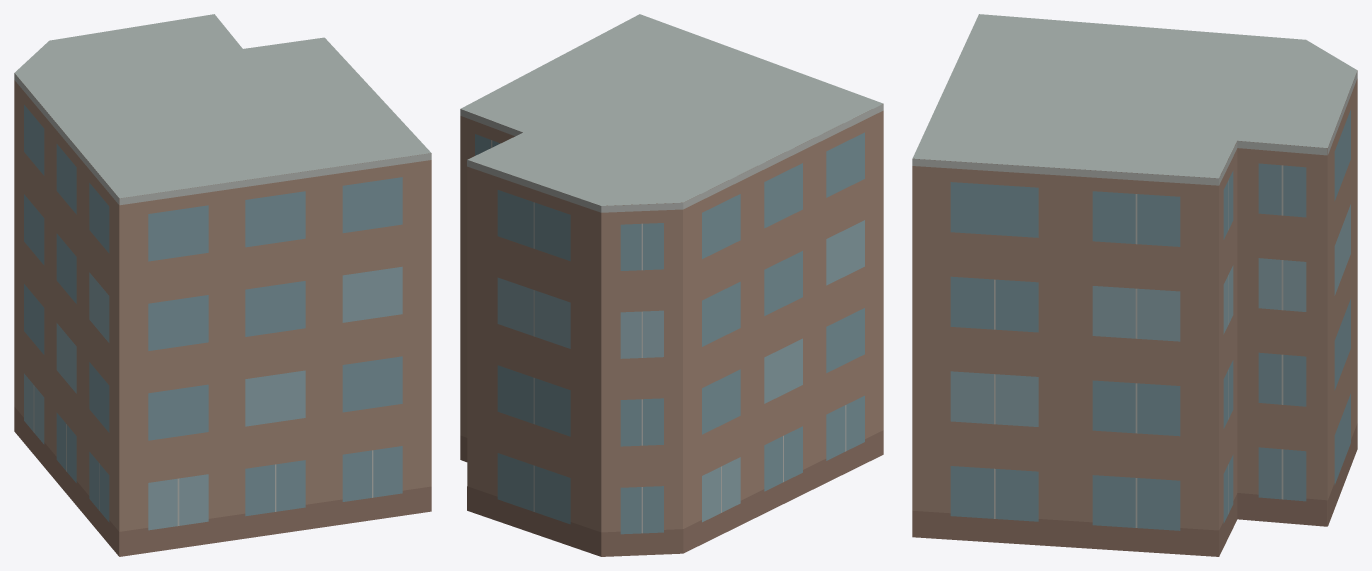
The model's file is survey-upis-32528685.glb.
The picture shows the model from 3 angles, left to right: view 1: azimuth 30°, elevation 25°; view 2: azimuth 150°, elevation 25°; view 3: azimuth 270°, elevation 25°; orthographic projection. The views are drawn at different scales.
Visible parts, largest first — view 1: survey-upis-32528685.tmp; view 2: survey-upis-32528685.tmp; view 3: survey-upis-32528685.tmp.
Part boxes in pixels (left/top/right/bottom): survey-upis-32528685.tmp: left=14, top=14, right=431, bottom=556; survey-upis-32528685.tmp: left=460, top=14, right=883, bottom=556; survey-upis-32528685.tmp: left=912, top=14, right=1357, bottom=556.
Bounding box in the file's own units: 11.74 × 12.6 × 13.44.
